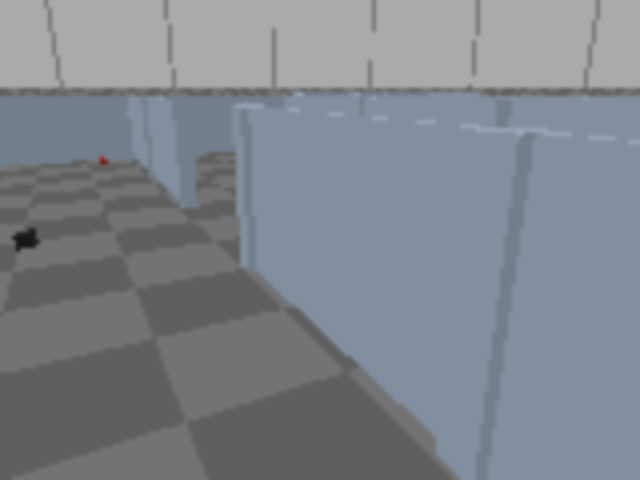puck: (13, 229, 39, 250)
